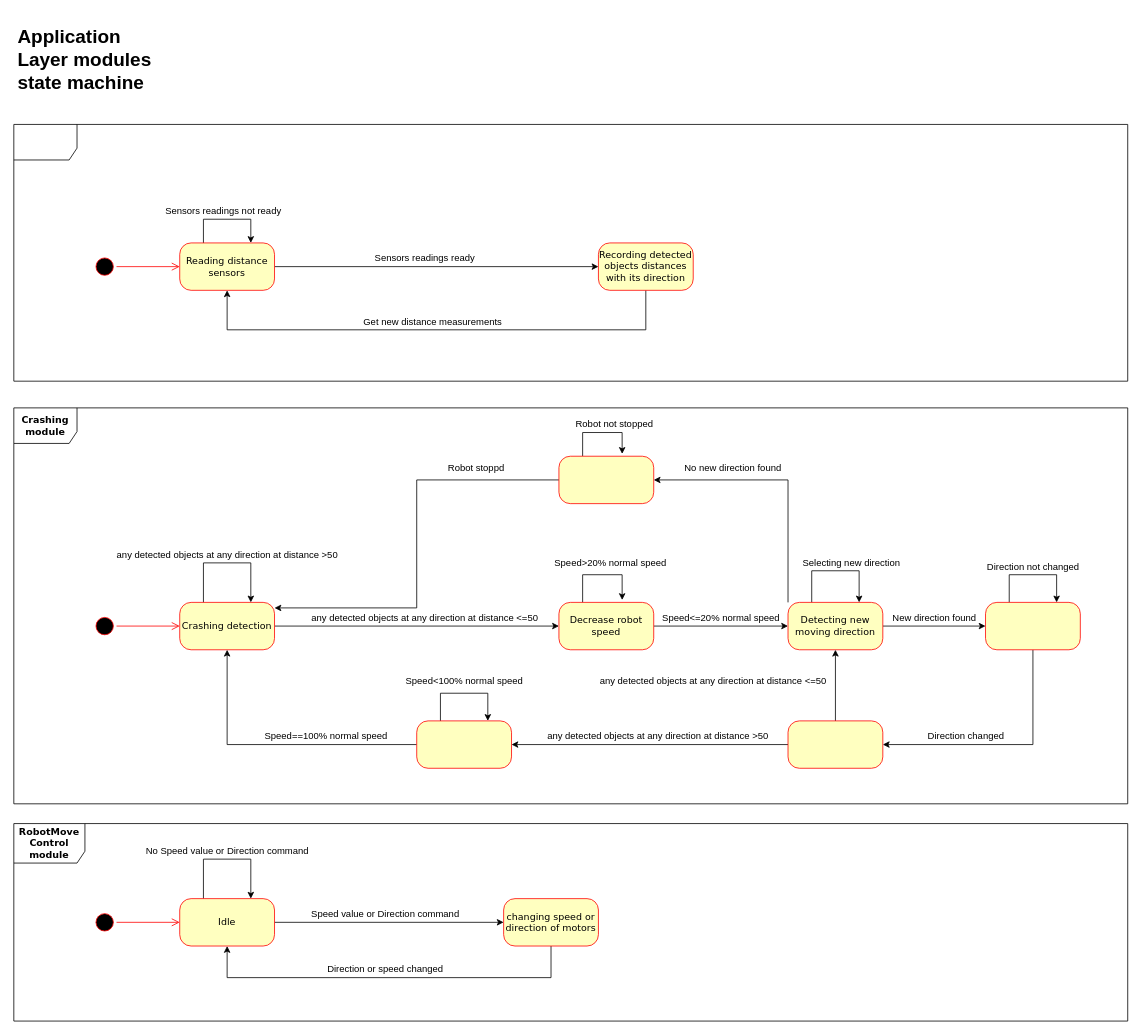
The diagram is 1142 pixels wide and 1035 high, and some of its shapes have lost their labels. The shapes that lost their labels are listed below. From the top down, each one's centre as x and y in pixels, then its label:
At pixel 570 252: "Monitoring module".
At pixel 606 479: "Stopping robot".
At pixel 1032 626: "Change robot direction".
At pixel 464 744: "Restore normal robot speed".
At pixel 835 744: "Crash checking".
